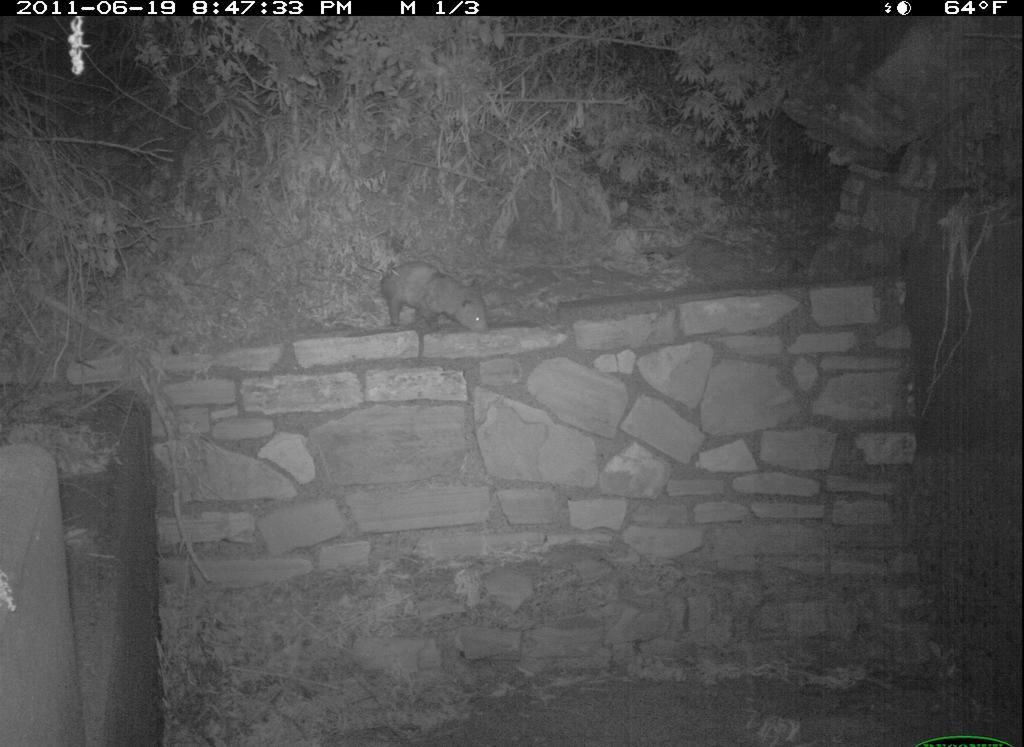opossum: (368, 241, 510, 353)
